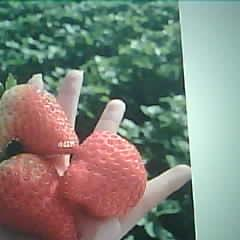straw-ripe: (63, 131, 146, 216), (0, 156, 76, 240), (0, 84, 80, 155)
